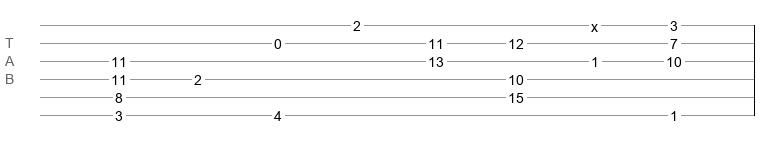0: (274, 36, 282, 46)
1: (591, 54, 599, 64), (670, 108, 678, 118)
10: (508, 72, 524, 82), (666, 54, 682, 64)
11: (111, 54, 127, 64), (111, 72, 127, 82), (428, 36, 444, 46)
12: (508, 36, 524, 46)
13: (428, 54, 444, 64)
15: (508, 90, 524, 100)
2: (194, 72, 202, 82), (353, 18, 361, 28)
3: (115, 108, 123, 118), (670, 18, 678, 28)
4: (274, 108, 282, 118)
7: (670, 36, 678, 46)
8: (115, 90, 123, 100)
x: (591, 19, 598, 27)
